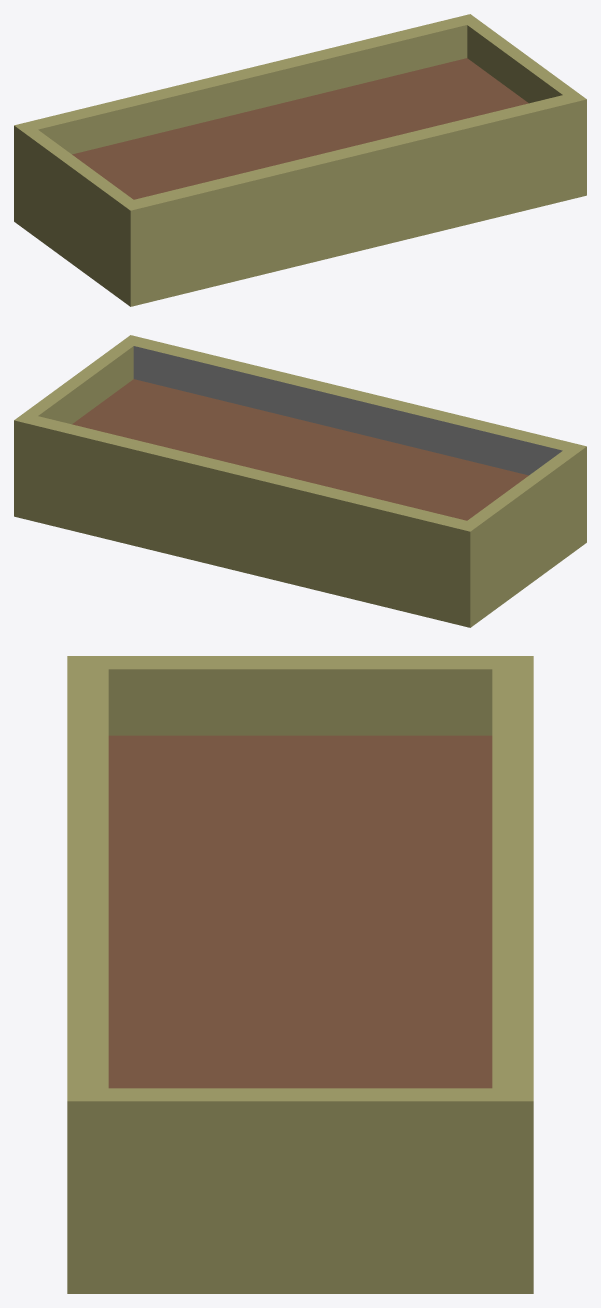
The model's file is PlanterBox.fbx.
3 views of the same model, one above another, from view 1: azimuth 30°, elevation 25°; view 2: azimuth 150°, elevation 25°; view 3: azimuth 270°, elevation 25° (orthographic). The views are drawn at different scales.
Parts seen in each view (by area): view 1: pasted__pCube9; view 2: pasted__pCube9; view 3: pasted__pCube9.
Part boxes in pixels (x1,y1,x2,y2): pasted__pCube9: (14, 14, 586, 306); pasted__pCube9: (14, 335, 586, 627); pasted__pCube9: (67, 656, 533, 1293).
Size of the model in its own units: 48.53 by 9.78 by 21.47.
